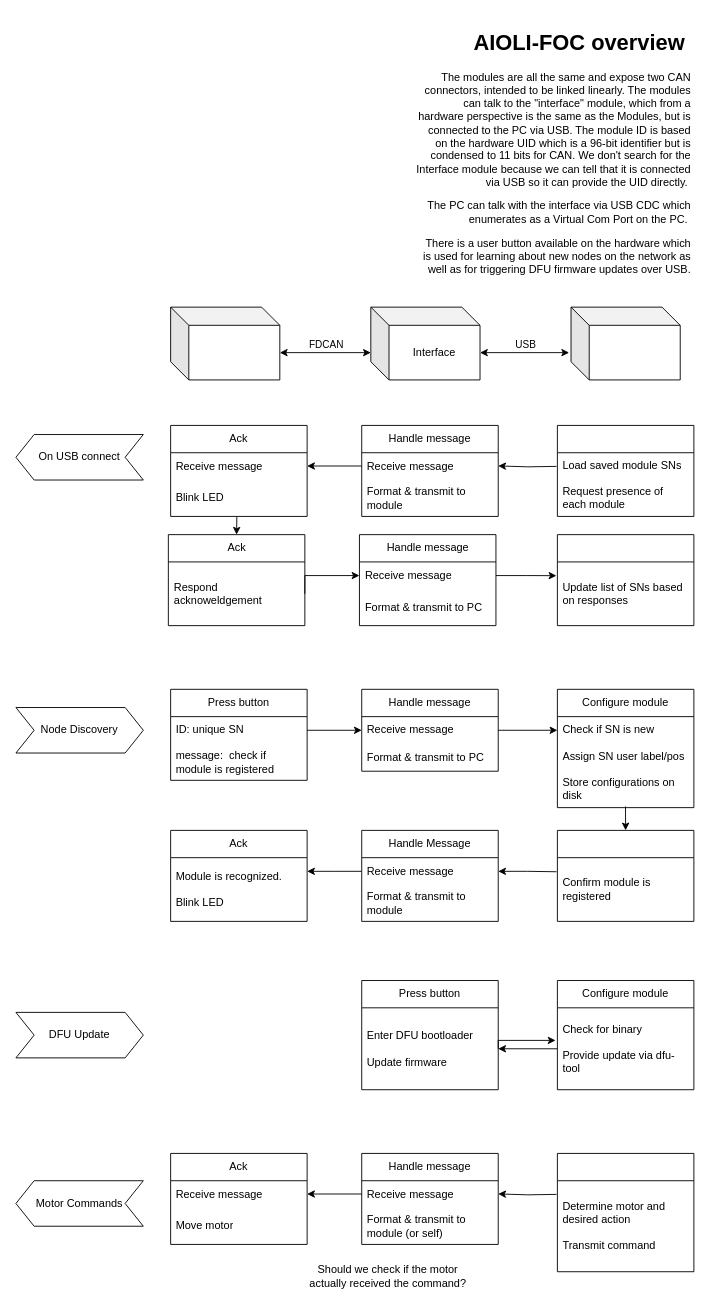
Image size: 717x1305. Some labels were removed from this diagram. The shapes that lost their labels are listed below. From the top down, each one's box as (x1, y1, x2, y2) in pixels, then its label:
(170, 306, 280, 380): Module
(570, 306, 680, 380): PC
(556, 425, 694, 516): Check all modules
(556, 534, 694, 626): Update modules
(556, 829, 694, 921): Confirm presence
(556, 1153, 694, 1272): UI button
